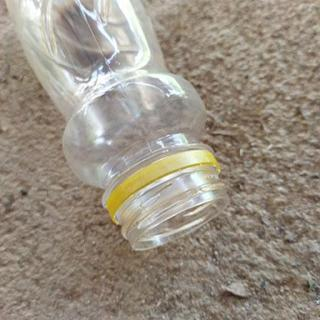Plastic-bottle: (4, 1, 232, 259)
